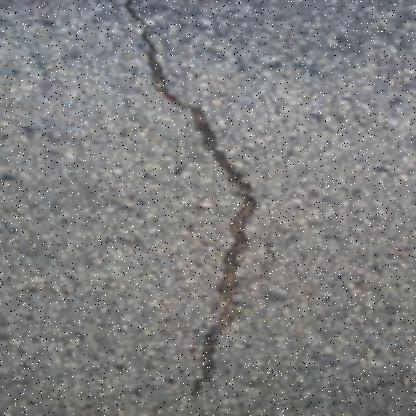Cracks: (115, 0, 271, 398)
